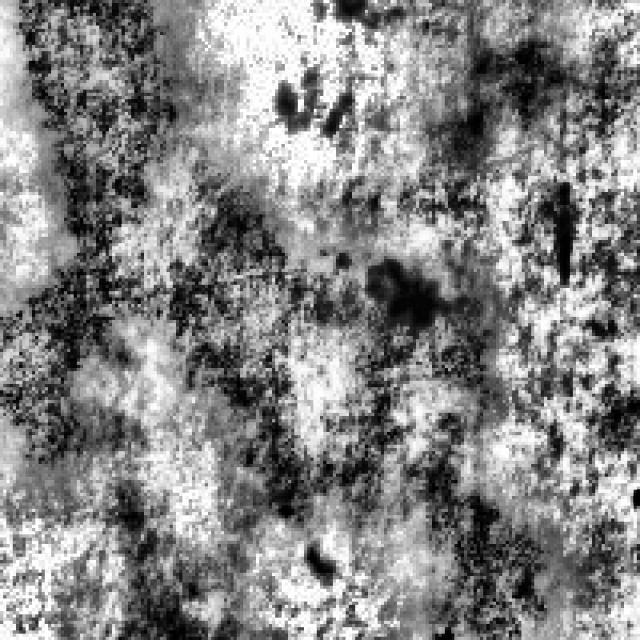Patches: (358, 243, 458, 330), (262, 60, 346, 134)
Scratches: (141, 179, 541, 627), (0, 0, 186, 464), (384, 442, 573, 636), (422, 22, 566, 160)
